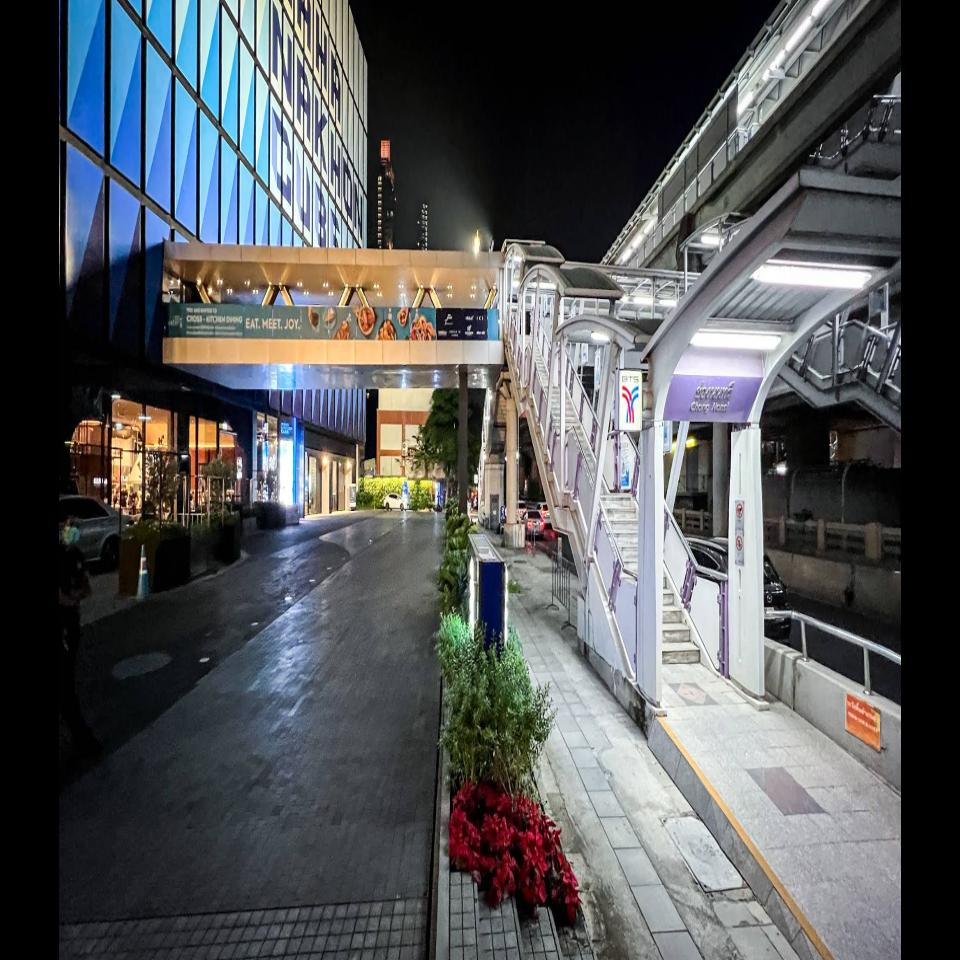signage: (619, 368, 764, 431), (663, 375, 764, 421)
